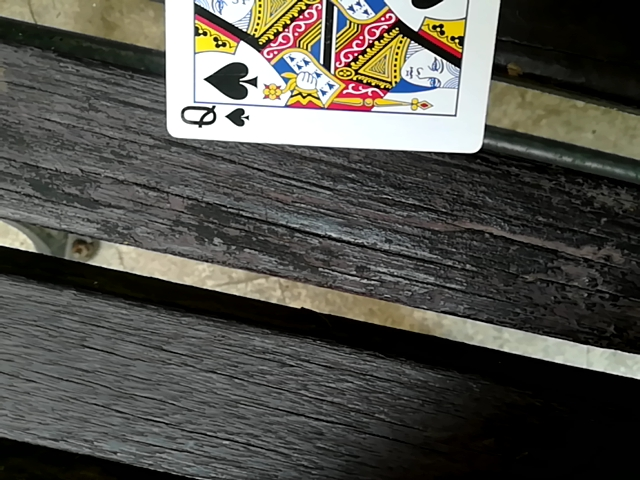ht q: (151, 0, 513, 152)
